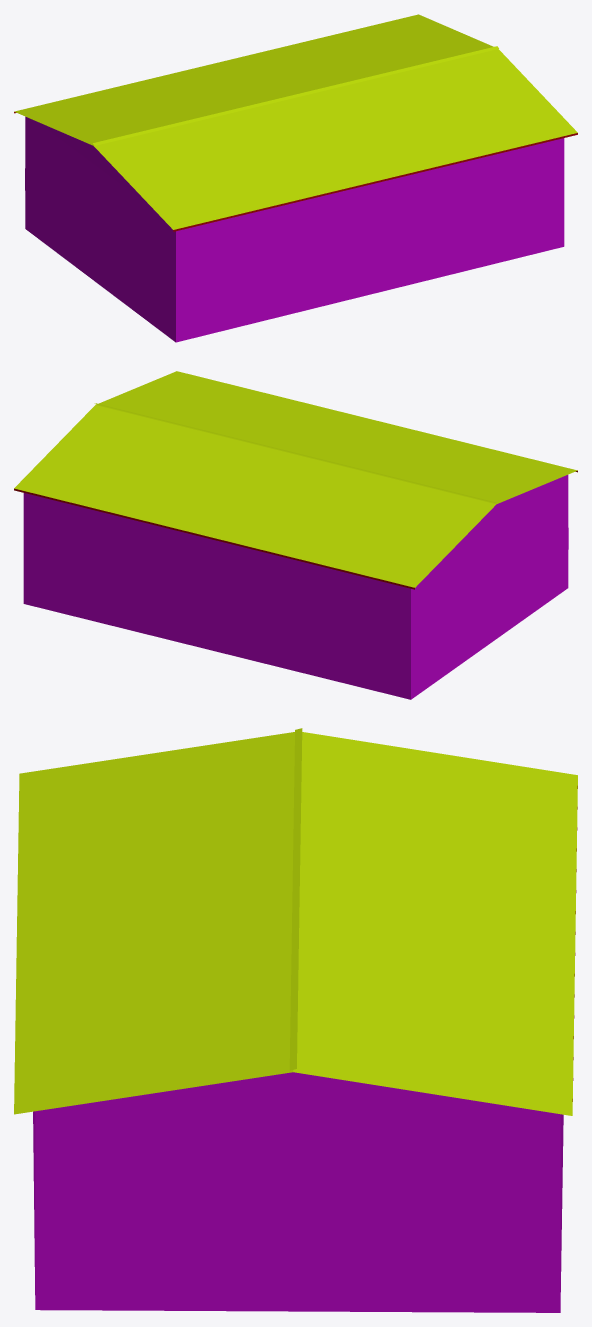
The model's file is rmc_193.glb.
3 views of the same model, one above another, from view 1: azimuth 30°, elevation 25°; view 2: azimuth 150°, elevation 25°; view 3: azimuth 270°, elevation 25° (orthographic). The views are drawn at different scales.
Parts seen in each view (by area): view 1: rmc_193; view 2: rmc_193; view 3: rmc_193.
Boxes of the visible parts, <box> form: rmc_193: <box>14,14,577,342</box>; rmc_193: <box>14,371,577,699</box>; rmc_193: <box>14,728,577,1312</box>.
Size of the model in its own units: 26.72 by 9.04 by 18.59.
